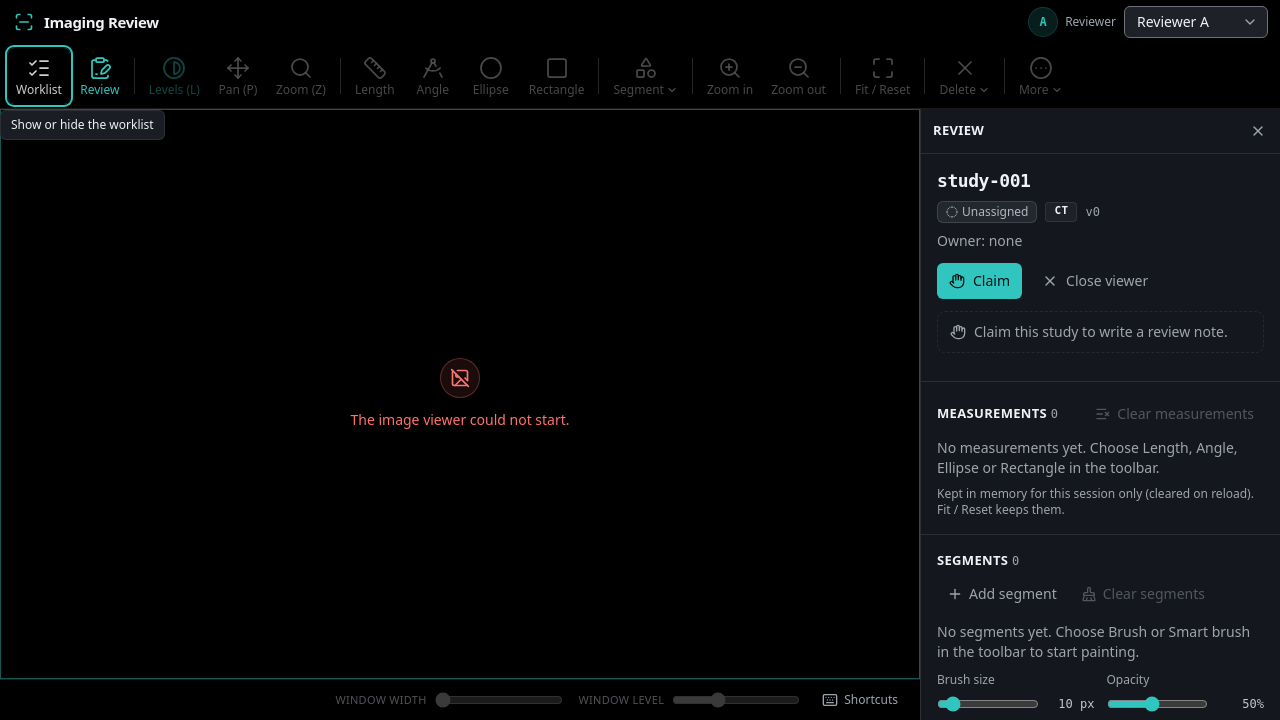
it: StudyPanel › Claim is disabled while the claim request is pending (deferred) and a second click sends no second request
The width and height of the screenshot is (1280, 720).
Click the button "Claim": (980,280) [937,262,1022,298]
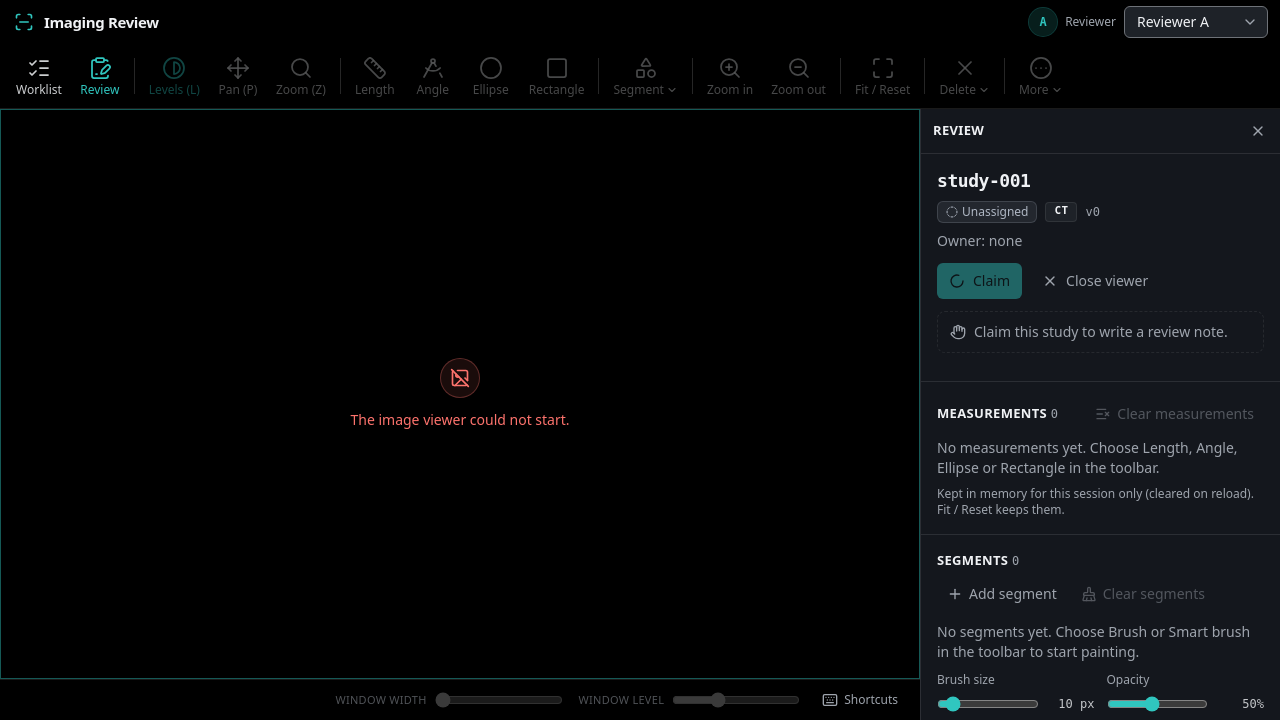
Expected: the button "Claim" is disabled
Click the button "Claim": (980,280) [937,262,1022,298]
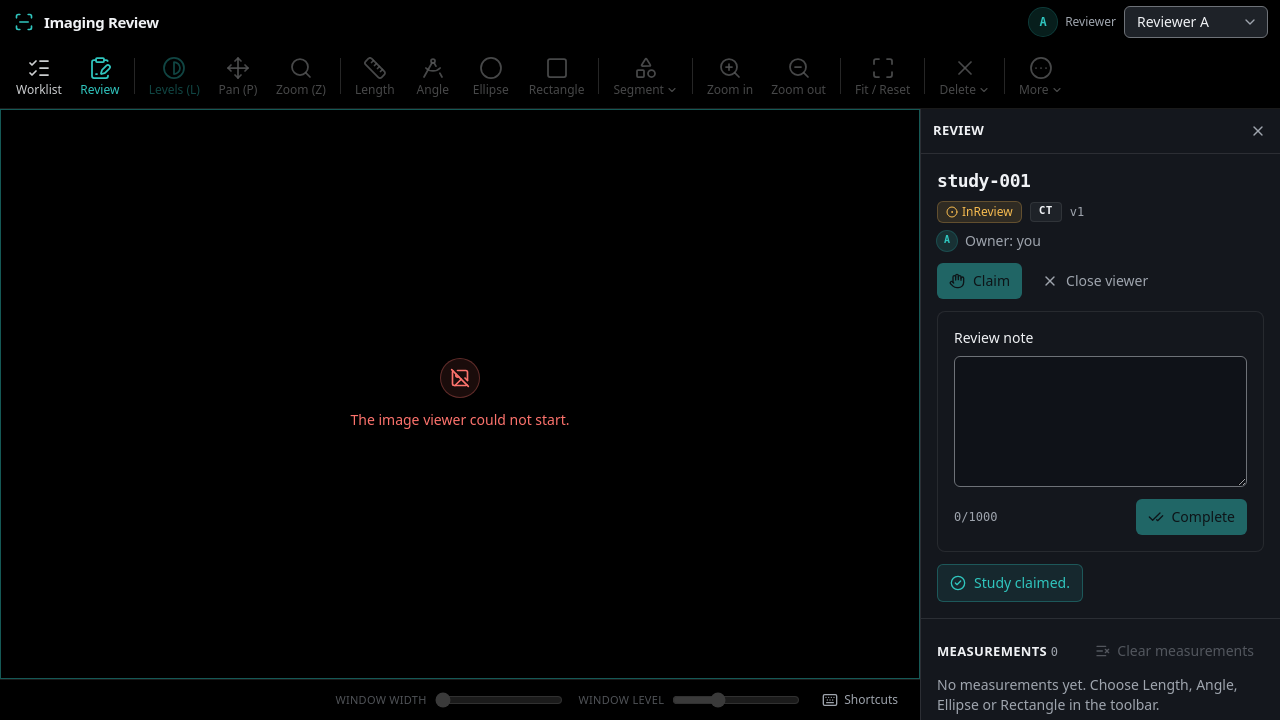
Expected: the text "Study claimed." is shown, [937,564,1083,602]
